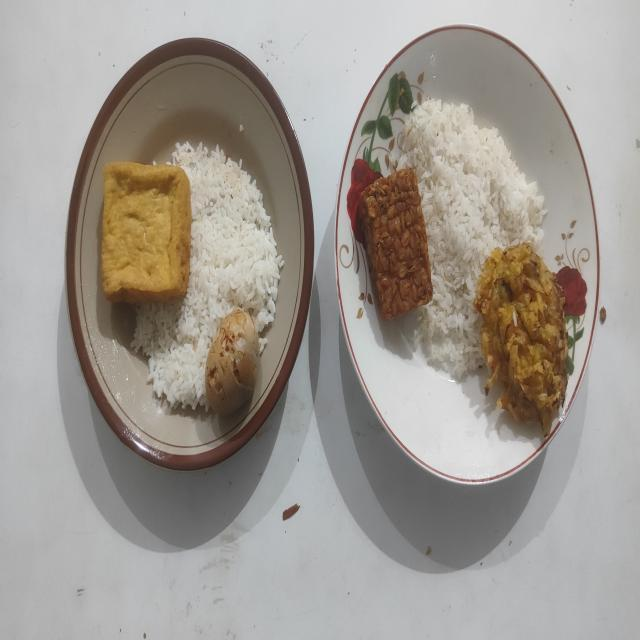nasi_putih: (396, 99, 546, 379), (132, 142, 284, 411)
tahu_goreng: (100, 162, 192, 302)
tempe_goreng: (360, 168, 432, 320)
